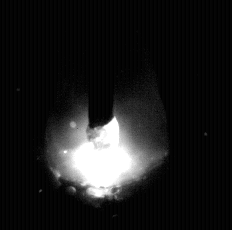arame: (89, 0, 115, 129)
poca: (46, 0, 170, 230)
